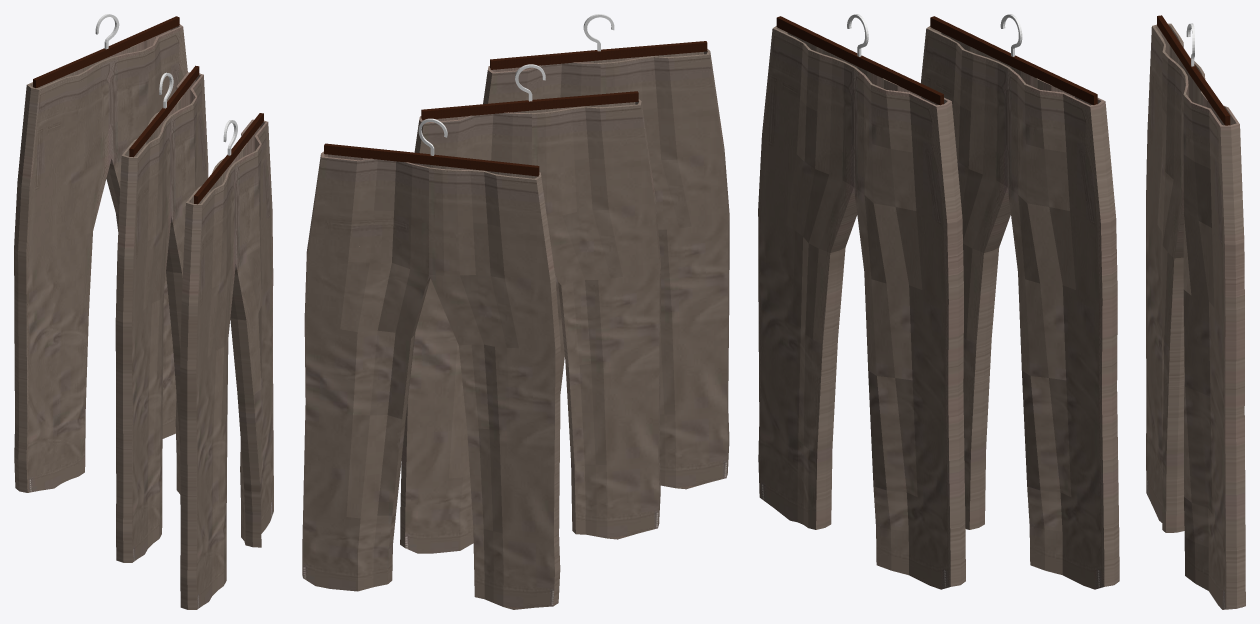
Rendered from chinokhaki2.glb.
3 renders of one model, left to right at view 1: azimuth 30°, elevation 25°; view 2: azimuth 150°, elevation 25°; view 3: azimuth 270°, elevation 25°, orthographic. The views are drawn at different scales.
Parts seen in each view (by area): view 1: Plane.021; view 2: Plane.021; view 3: Plane.021.
Part boxes in pixels (box(x1,y1,x2,y2)): Plane.021: box(14, 14, 273, 609); Plane.021: box(302, 14, 729, 609); Plane.021: box(758, 14, 1245, 609).
Bounding box in the file's own units: 0.2288 × 0.4706 × 0.3896.
3 materials, 3 textured.
